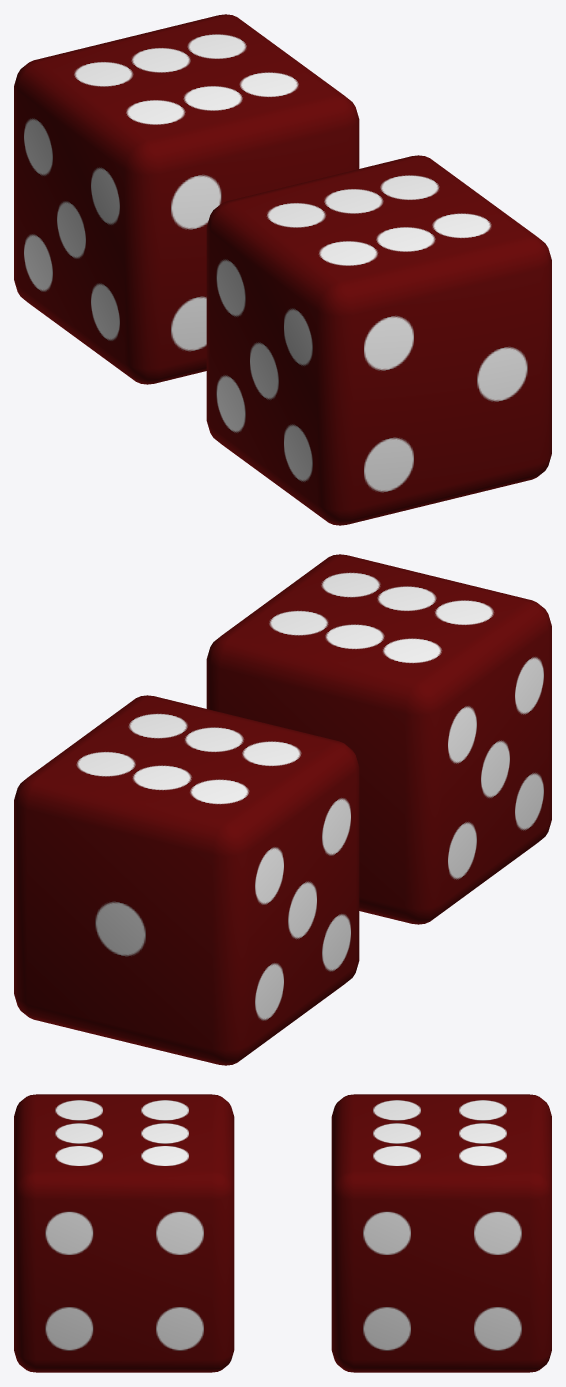
File: Dice.FBX
The picture shows the model from 3 angles, top to bottom: view 1: azimuth 30°, elevation 25°; view 2: azimuth 150°, elevation 25°; view 3: azimuth 270°, elevation 25°; orthographic projection. The views are drawn at different scales.
Visible parts, largest first — view 1: Dice_A, Dice_B; view 2: Dice_B, Dice_A; view 3: Dice_A, Dice_B.
Boxes of the visible parts, box(x1,y1,x2,y2) form: Dice_A: box(206, 155, 551, 525); Dice_B: box(14, 14, 359, 384); Dice_B: box(14, 695, 359, 1065); Dice_A: box(206, 554, 551, 924); Dice_A: box(14, 1094, 234, 1372); Dice_B: box(331, 1094, 551, 1372).
Bounding box in the file's own units: 1 × 1 × 2.44.
